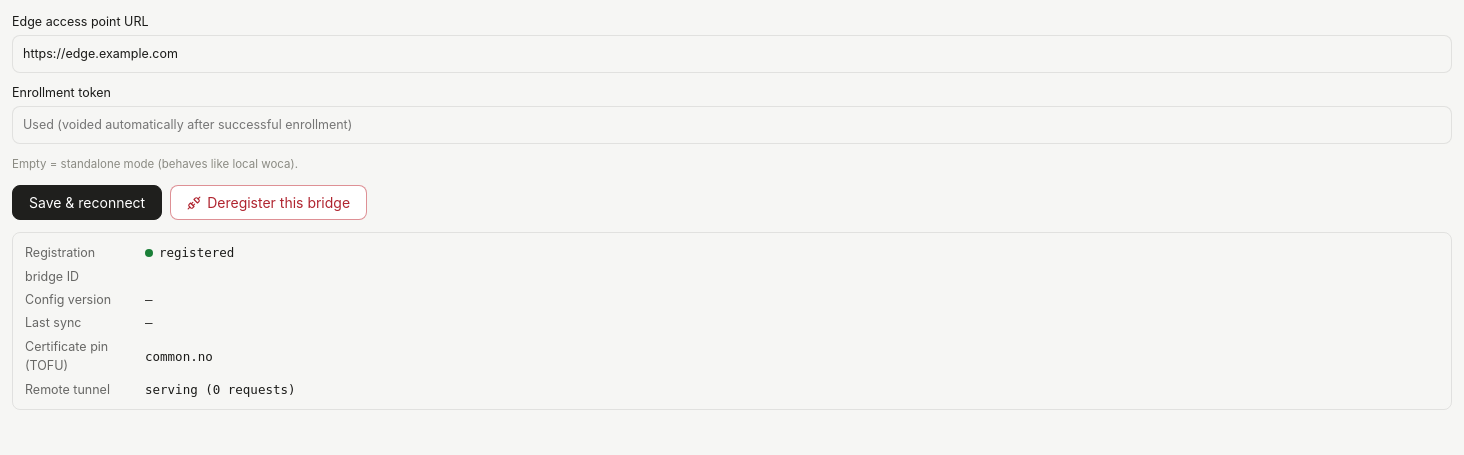
Test: CloudAccessSection › surfaces a failed save with the server message
Type "https://other.example.com" into the field with test id "cloud-url".
click(732, 54); type("https://other.example.com")  # box [12,35,1452,73]
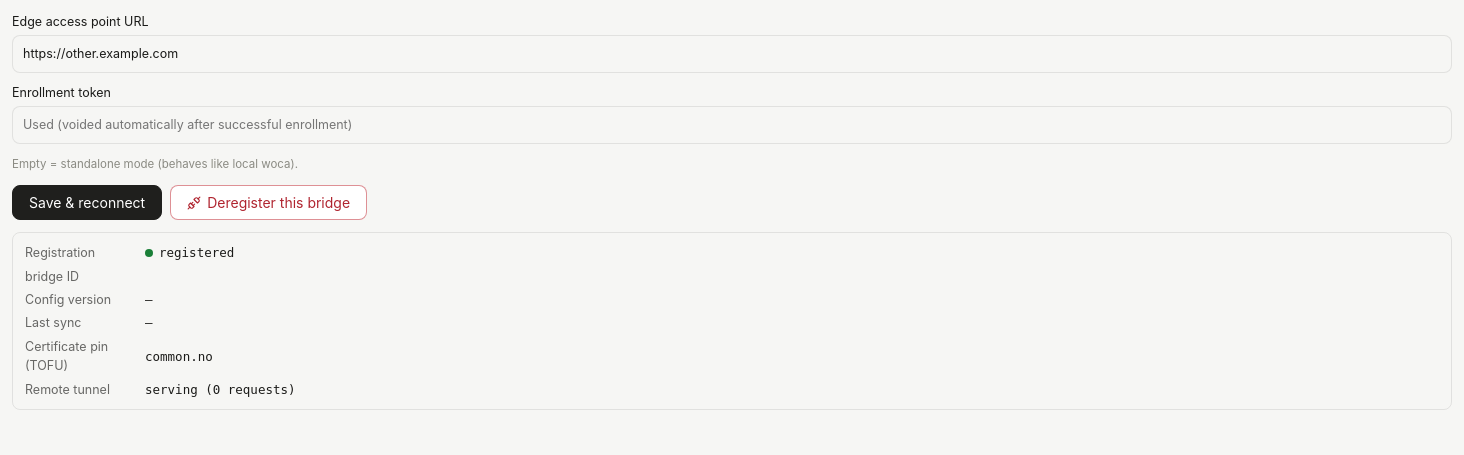
Click the button with test id "cloud-save".
click(87, 203)  # box [12,185,162,220]
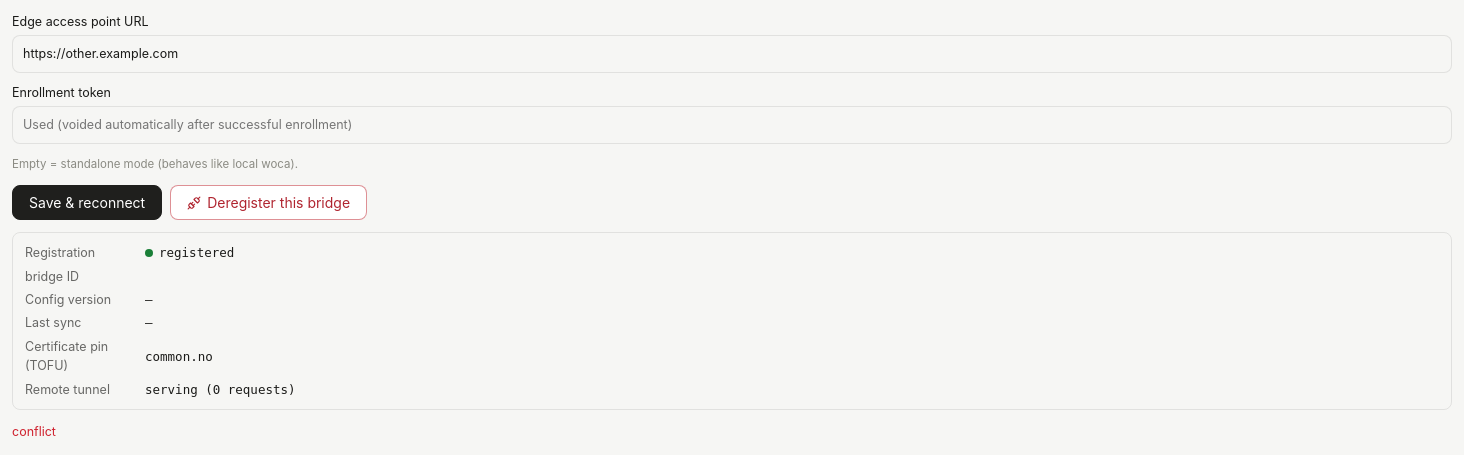
Now the text "conflict" is shown, box [12,424,56,439]
